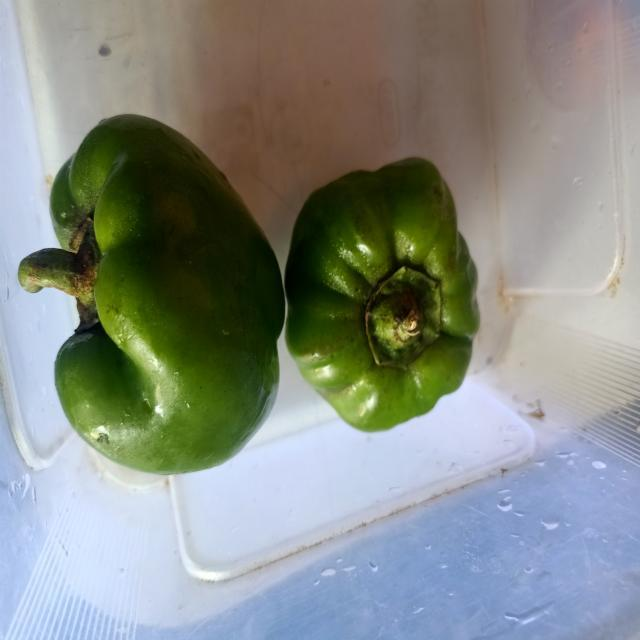Capsicum: (10, 99, 284, 480), (286, 122, 518, 457)
